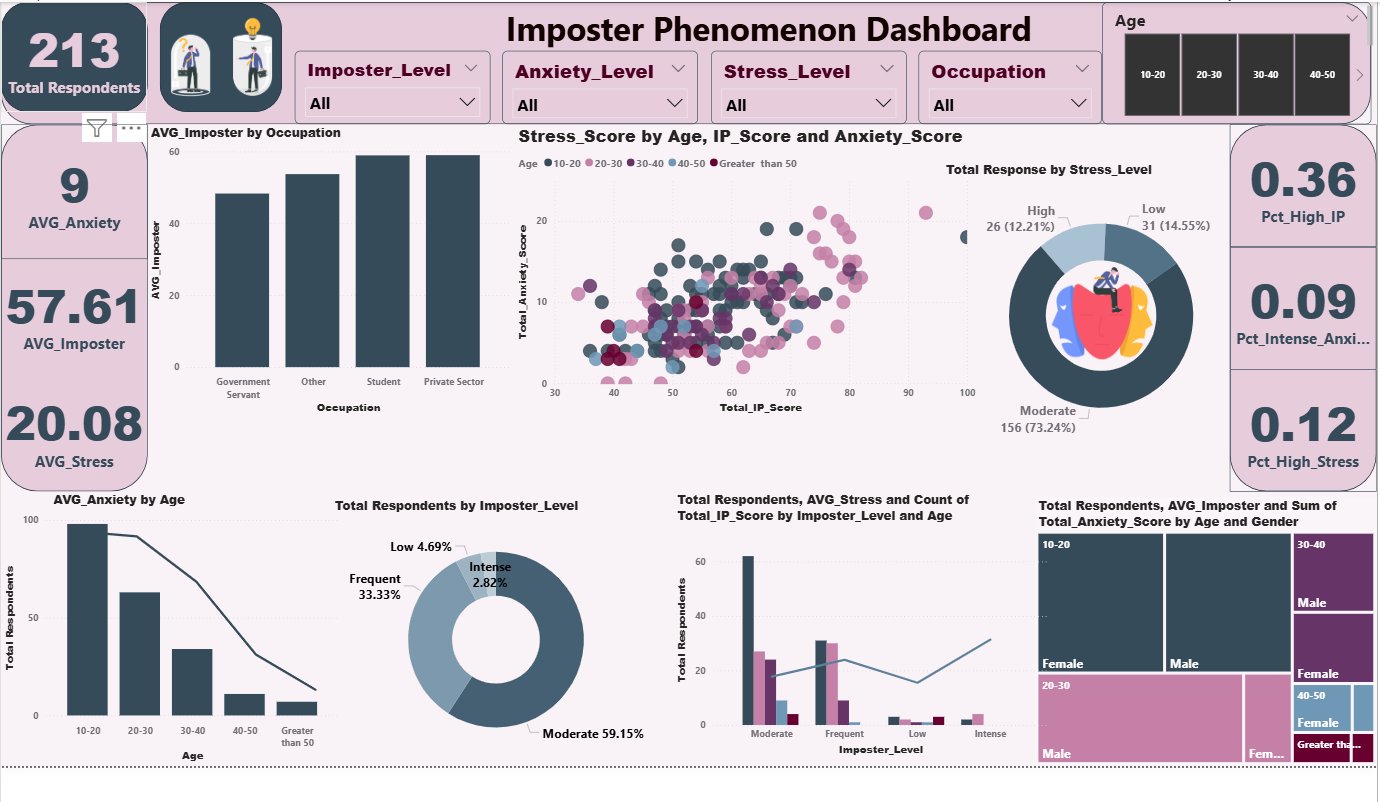

What the dashboard file says about the page in this screenshot:
{"tool":"powerbi","page":{"name":"Dashboard","canvas":[1800,1000],"ordinal":2},"visuals":[{"type":"shape","box":[0,0,1792,160],"z":0},{"type":"shape","box":[0,160,192,480],"z":1000},{"type":"shape","box":[208,0,160,144],"z":2000},{"type":"shape","box":[0,0,192,144],"z":3000},{"type":"image","box":[176,0,224,144],"z":4000},{"type":"textbox","box":[216,0,1584,64],"z":5000},{"type":"card","fields":{"Values":["dash_imp.Total Respondents"]},"box":[0,0,192,144],"z":6000},{"type":"slicer","fields":{"Values":["dash_imp.Age"]},"box":[1440,0,352,160],"z":7000},{"type":"scatterChart","title":"Stress_Score by Age, IP_Score and Anxiety_Score","fields":{"X":["dash_imp.Total_IP_Score"],"Y":["dash_imp.Total_Anxiety_Score"],"Series":["dash_imp.Age"]},"box":[672,160,608,384],"z":8000},{"type":"treemap","fields":{"Group":["dash_imp.Age"],"Details":["dash_imp.Gender"],"Values":["dash_imp.Total Respondents"]},"box":[1352,648,448,352],"z":9000},{"type":"lineClusteredColumnComboChart","fields":{"Category":["dash_imp.IP_Level"],"Series":["dash_imp.Age"],"Y":["dash_imp.Total Respondents"],"Y2":["dash_imp.AVG_Stress"]},"box":[880,640,496,352],"z":10000},{"type":"donutChart","fields":{"Y":["dash_imp.Total Respondents"],"Category":["dash_imp.IP_Level"]},"box":[432,648,432,352],"z":11000},{"type":"clusteredColumnChart","fields":{"Category":["dash_imp.Age"],"Y":["dash_imp.Total Respondents"]},"box":[0,664,448,336],"z":12000},{"type":"lineClusteredColumnComboChart","fields":{"Category":["dash_imp.Occupation"],"Y":["dash_imp.AVG_Imposter"]},"box":[192,160,480,384],"z":13000},{"type":"shape","box":[1608,160,192,480],"z":14000},{"type":"slicer","fields":{"Values":["dash_imp.IP_Level"]},"box":[384,64,256,96],"z":15000},{"type":"slicer","fields":{"Values":["dash_imp.GAD_Level"]},"box":[656,64,256,96],"z":16000},{"type":"slicer","fields":{"Values":["dash_imp.PSS_Level"]},"box":[928,64,256,96],"z":17000},{"type":"slicer","fields":{"Values":["dash_imp.Occupation"]},"box":[1200,64,240,96],"z":18000},{"type":"card","fields":{"Values":["dash_imp.AVG_Anxiety"]},"box":[0,160,192,176],"z":19000},{"type":"card","fields":{"Values":["dash_imp.AVG_Imposter"]},"box":[0,336,192,144],"z":20000},{"type":"card","fields":{"Values":["dash_imp.AVG_Stress"]},"box":[0,480,192,160],"z":21000},{"type":"donutChart","fields":{"Category":["dash_imp.Stress_Level"],"Y":["dash_imp.Total Response"]},"box":[1232,208,416,384],"z":22000},{"type":"card","fields":{"Values":["dash_imp.Pct_High_IP"]},"box":[1608,160,192,160],"z":23000},{"type":"card","fields":{"Values":["dash_imp.Pct_High_Stress"]},"box":[1608,480,192,160],"z":24000},{"type":"card","fields":{"Values":["dash_imp.Pct_Intense_Anxiety"]},"box":[1608,320,192,160],"z":25000},{"type":"lineChart","fields":{"Category":["dash_imp.Age"],"Y":["dash_imp.AVG_Anxiety"]},"box":[64,640,384,304],"z":26000},{"type":"image","box":[1360,336,160,144],"z":27000}]}

Visuals, with their boxes on the page's 1800x1000 design canvas (x1, y1, x2, y2). These are canvas units, not pixel positions in the 1380x802 screenshot, which may show the page scaled, cropped or inside an application window:
shape: locate(0, 0, 1792, 160)
shape: locate(0, 160, 192, 640)
shape: locate(208, 0, 368, 144)
shape: locate(0, 0, 192, 144)
image: locate(176, 0, 400, 144)
textbox: locate(216, 0, 1800, 64)
card - dash_imp.Total Respondents: locate(0, 0, 192, 144)
slicer - dash_imp.Age: locate(1440, 0, 1792, 160)
"Stress_Score by Age, IP_Score and Anxiety_Score" scatterChart: locate(672, 160, 1280, 544)
treemap - dash_imp.Age x dash_imp.Gender: locate(1352, 648, 1800, 1000)
lineClusteredColumnComboChart - dash_imp.IP_Level x dash_imp.Age: locate(880, 640, 1376, 992)
donutChart - dash_imp.Total Respondents x dash_imp.IP_Level: locate(432, 648, 864, 1000)
clusteredColumnChart - dash_imp.Age x dash_imp.Total Respondents: locate(0, 664, 448, 1000)
lineClusteredColumnComboChart - dash_imp.Occupation x dash_imp.AVG_Imposter: locate(192, 160, 672, 544)
shape: locate(1608, 160, 1800, 640)
slicer - dash_imp.IP_Level: locate(384, 64, 640, 160)
slicer - dash_imp.GAD_Level: locate(656, 64, 912, 160)
slicer - dash_imp.PSS_Level: locate(928, 64, 1184, 160)
slicer - dash_imp.Occupation: locate(1200, 64, 1440, 160)
card - dash_imp.AVG_Anxiety: locate(0, 160, 192, 336)
card - dash_imp.AVG_Imposter: locate(0, 336, 192, 480)
card - dash_imp.AVG_Stress: locate(0, 480, 192, 640)
donutChart - dash_imp.Stress_Level x dash_imp.Total Response: locate(1232, 208, 1648, 592)
card - dash_imp.Pct_High_IP: locate(1608, 160, 1800, 320)
card - dash_imp.Pct_High_Stress: locate(1608, 480, 1800, 640)
card - dash_imp.Pct_Intense_Anxiety: locate(1608, 320, 1800, 480)
lineChart - dash_imp.Age x dash_imp.AVG_Anxiety: locate(64, 640, 448, 944)
image: locate(1360, 336, 1520, 480)
